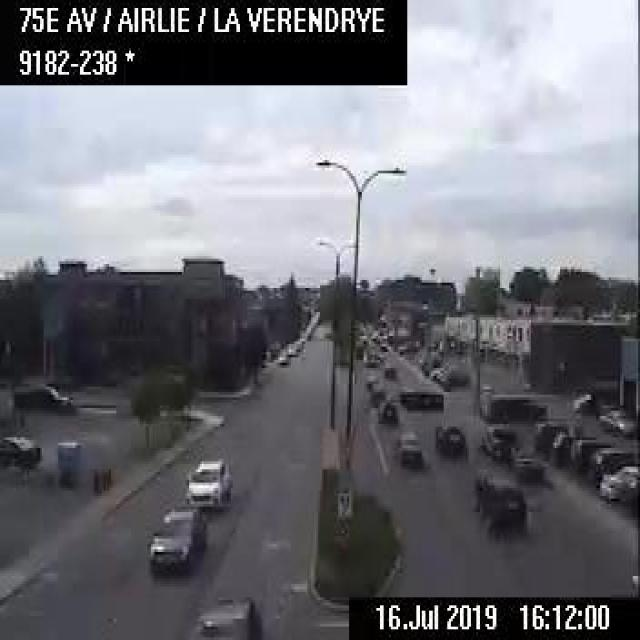vehicle: (143, 499, 204, 573), (193, 592, 262, 637), (472, 477, 524, 536), (182, 455, 232, 509), (483, 389, 548, 425), (9, 382, 73, 408), (0, 428, 42, 465), (584, 448, 632, 480), (597, 463, 637, 501), (478, 422, 517, 458), (394, 426, 426, 468), (552, 430, 591, 463), (596, 403, 635, 435), (570, 437, 609, 469), (508, 448, 542, 482), (433, 424, 465, 453), (572, 390, 605, 411), (440, 362, 470, 384), (376, 400, 398, 424), (380, 364, 398, 382), (276, 350, 287, 365), (285, 342, 296, 355)
